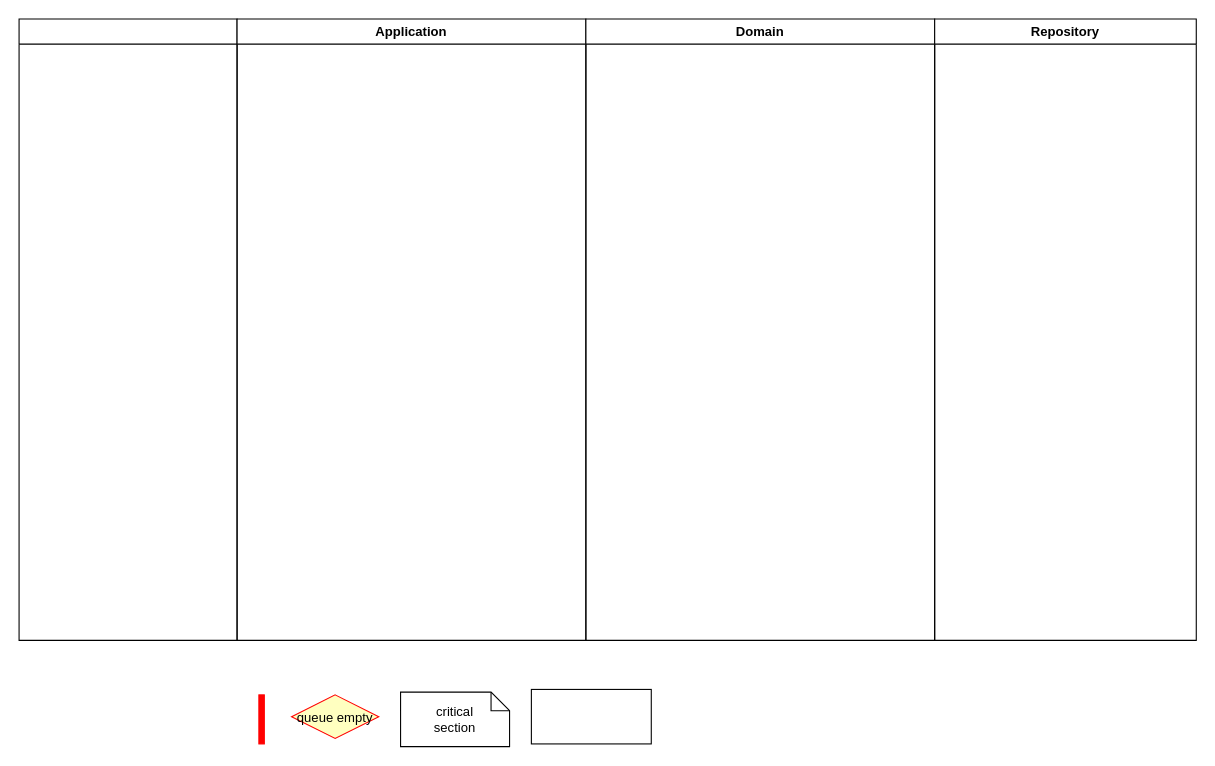
This 1215x766 diagram has some shape labels left out. The centre of each missing label's shape, as x and y in pixels:
"Client" belongs at (127,329).
"command queue" belongs at (590,716).
